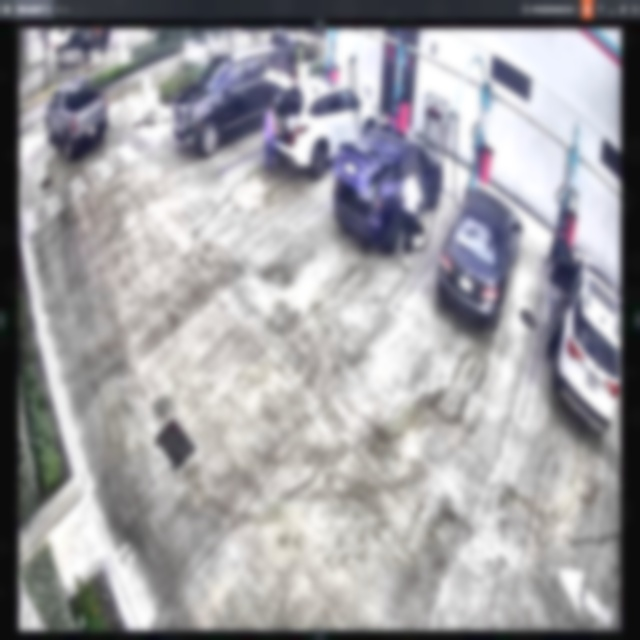Car: (333, 125, 443, 254), (172, 49, 298, 152), (265, 72, 378, 179), (438, 186, 522, 329)
